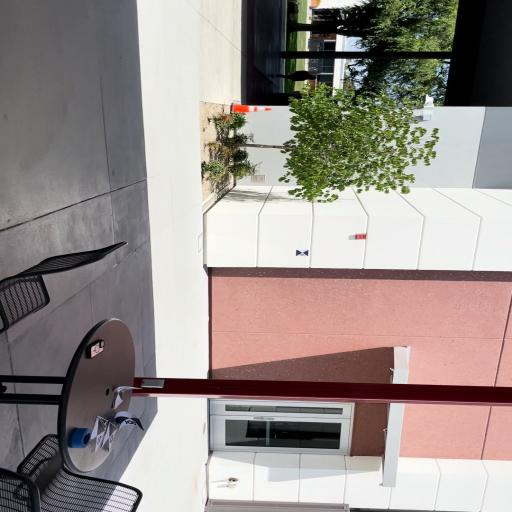target6: (296, 249, 308, 257)
